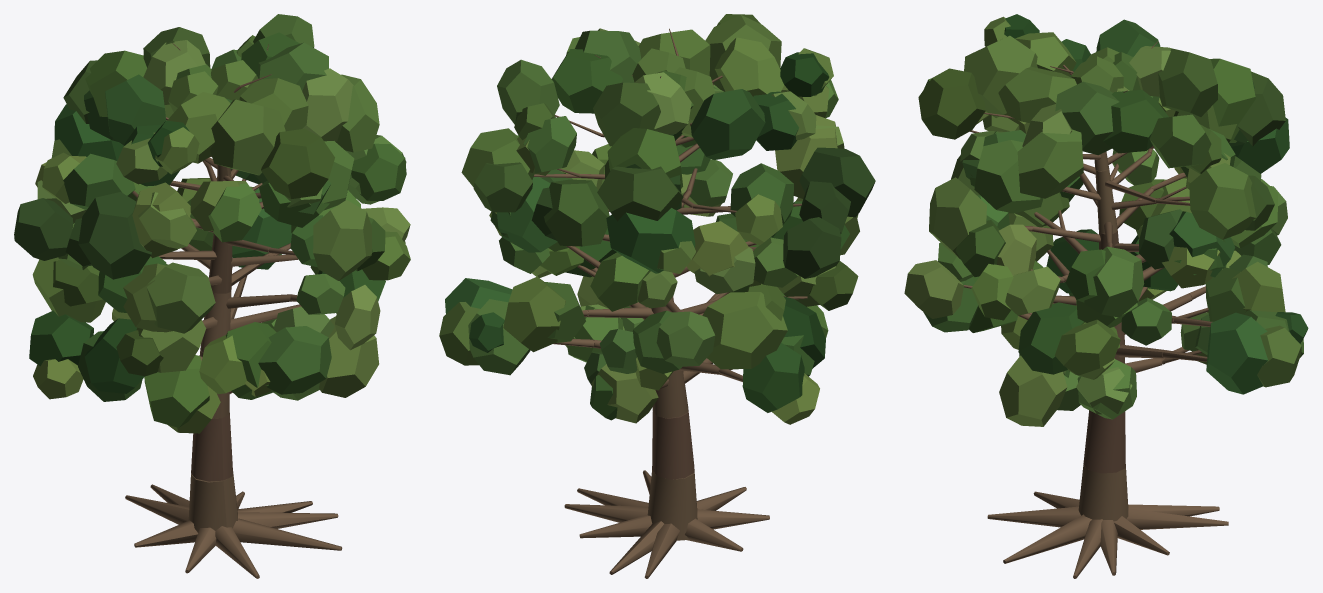
File: tree_normal_medium_ancient_a.glb
3 views of the same model, side by side, from view 1: azimuth 30°, elevation 25°; view 2: azimuth 150°, elevation 25°; view 3: azimuth 270°, elevation 25° (orthographic).
Visible parts, largest first — view 1: leaves, wood; view 2: leaves, wood; view 3: leaves, wood.
Boxes of the visible parts, left/top/right/bottom form: leaves: left=14, top=14, right=410, bottom=433; wood: left=125, top=43, right=342, bottom=578; leaves: left=439, top=14, right=875, bottom=424; wood: left=533, top=28, right=807, bottom=578; leaves: left=904, top=14, right=1308, bottom=426; wood: left=964, top=41, right=1228, bottom=578.
Size of the model in its own units: 10.18 by 12.37 by 9.38.
